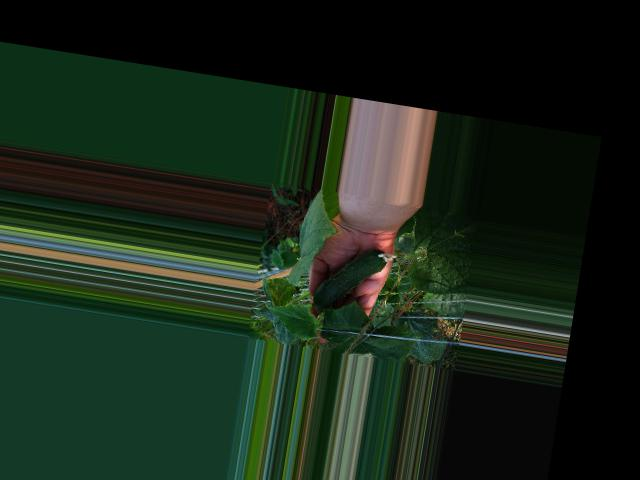cucumber: (312, 240, 398, 319)
